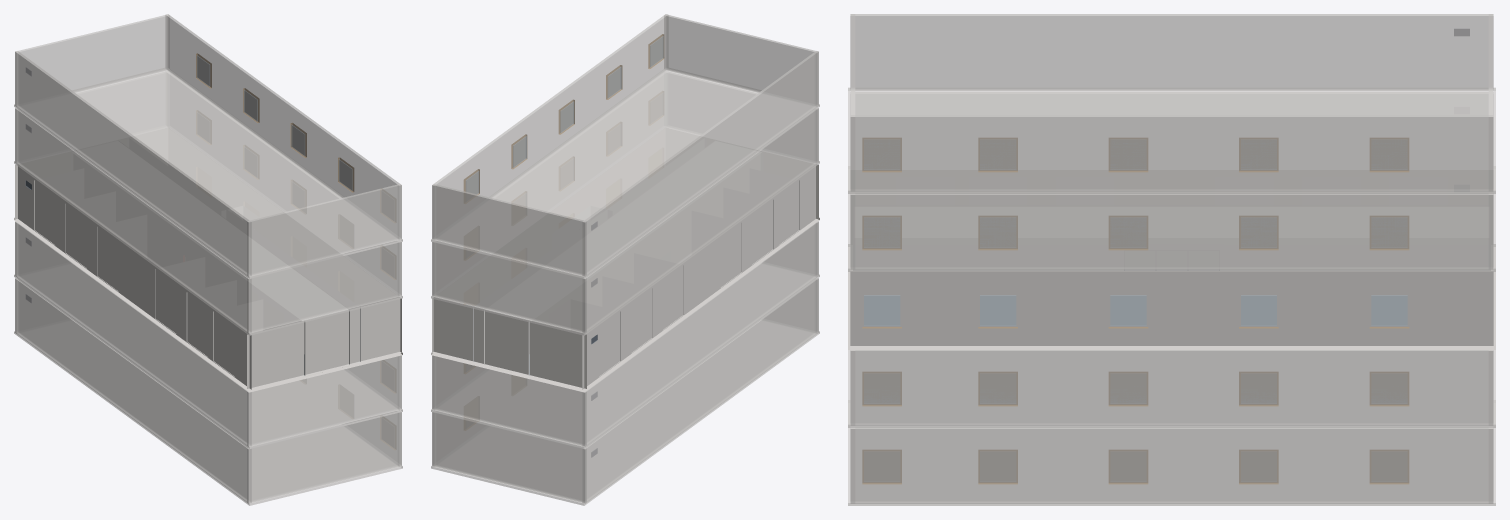
Rendered from sample_hk_tower_floor.gltf.
The picture shows the model from 3 angles, left to right: view 1: azimuth 30°, elevation 25°; view 2: azimuth 150°, elevation 25°; view 3: azimuth 270°, elevation 25°; orthographic projection. The views are drawn at different scales.
Parts seen in each view (by area): view 1: Slab-25F, Slab-24F, Slab-21F, Slab-22F, Shell-West-25F, Shell-West-24F, Shell-West-21F, Shell-West-23F, Shell-West-22F, Shell-East-25F, Shell-North-25F, Shell-North-24F (+14 smaller); view 2: Slab-25F, Slab-24F, Slab-21F, Slab-22F, Shell-West-25F, Shell-West-24F, Shell-West-21F, Shell-East-25F, Shell-West-23F, Shell-West-22F, Shell-South-25F, Shell-South-24F (+15 smaller); view 3: Slab-25F, Shell-East-23F, Shell-East-25F, Shell-West-25F, Shell-East-24F, Shell-East-21F, Shell-East-22F, Slab-24F, Slab-21F, Slab-22F, Shell-West-24F, Slab-23F (+48 smaller).
Boxes of the visible parts, x1,y1,x2,y2 form: Slab-25F: (14, 68, 402, 278); Slab-24F: (14, 127, 402, 335); Slab-21F: (14, 320, 402, 505); Slab-22F: (14, 264, 402, 449); Shell-West-25F: (15, 51, 251, 276); Shell-West-24F: (15, 108, 251, 333); Shell-West-21F: (15, 278, 251, 503); Shell-West-23F: (15, 164, 251, 390); Shell-West-22F: (15, 221, 251, 446); Shell-East-25F: (165, 14, 401, 239); Shell-North-25F: (247, 184, 401, 275); Shell-North-24F: (247, 242, 401, 332); Slab-25F: (431, 68, 819, 278); Slab-24F: (431, 127, 819, 335); Slab-21F: (431, 320, 819, 505); Slab-22F: (431, 264, 819, 449); Shell-West-25F: (582, 51, 818, 276); Shell-West-24F: (582, 108, 818, 333); Shell-West-21F: (582, 278, 818, 503); Shell-East-25F: (432, 14, 668, 239); Shell-West-23F: (582, 164, 818, 390); Shell-West-22F: (582, 221, 818, 446); Shell-South-25F: (432, 184, 586, 276); Shell-South-24F: (432, 242, 586, 332); Slab-25F: (848, 87, 1495, 193); Shell-East-23F: (850, 271, 1493, 347); Shell-East-25F: (850, 115, 1493, 191); Shell-West-25F: (850, 14, 1493, 90); Shell-East-24F: (850, 193, 1493, 269); Shell-East-21F: (850, 428, 1493, 503); Shell-East-22F: (850, 350, 1493, 425); Slab-24F: (848, 166, 1495, 271); Slab-21F: (848, 400, 1495, 505); Slab-22F: (848, 350, 1495, 427); Shell-West-24F: (856, 92, 1487, 114); Slab-23F: (848, 244, 1495, 349).
Bounding box in the file's own units: 8.4 × 14.81 × 22.35.
